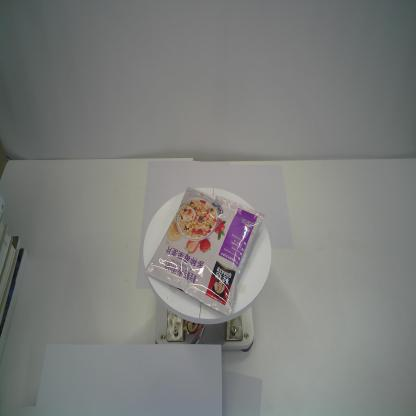Instant Drink: (144, 187, 265, 318)
